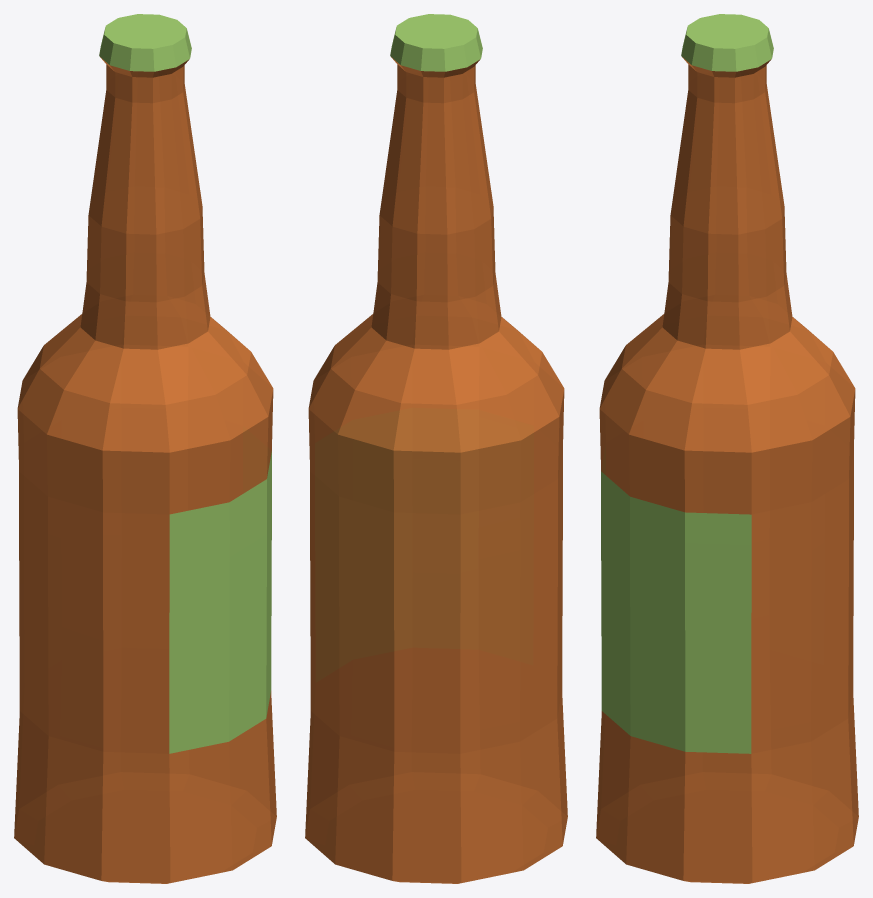
Rendered from drink1.glb.
3 renders of one model, left to right at view 1: azimuth 30°, elevation 25°; view 2: azimuth 150°, elevation 25°; view 3: azimuth 270°, elevation 25°, orthographic.
Visible parts, largest first — view 1: Cylinder.026; view 2: Cylinder.026; view 3: Cylinder.026.
Boxes of the visible parts, x1,y1,x2,y2 form: Cylinder.026: (14, 14, 276, 883); Cylinder.026: (305, 14, 567, 883); Cylinder.026: (596, 14, 858, 883).
Size of the model in its own units: 0.2473 by 0.8362 by 0.2473.
